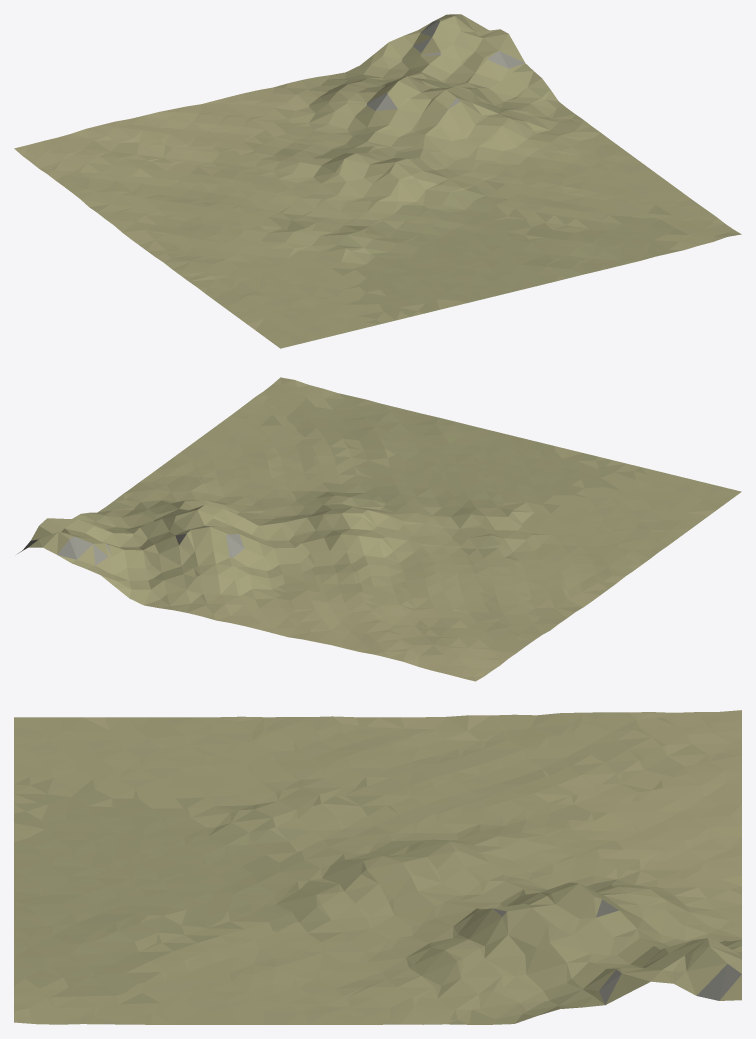
The model's file is Ground_6_4.glb.
The picture shows the model from 3 angles, top to bottom: view 1: azimuth 30°, elevation 25°; view 2: azimuth 150°, elevation 25°; view 3: azimuth 270°, elevation 25°; orthographic projection. The views are drawn at different scales.
Visible parts, largest first — view 1: Ground_6_4; view 2: Ground_6_4; view 3: Ground_6_4.
Part boxes in pixels (<box>): Ground_6_4: <box>14,14,741,348</box>; Ground_6_4: <box>17,377,741,681</box>; Ground_6_4: <box>14,710,741,1024</box>.
Bounding box in the file's own units: 768 × 66.29 × 768.
